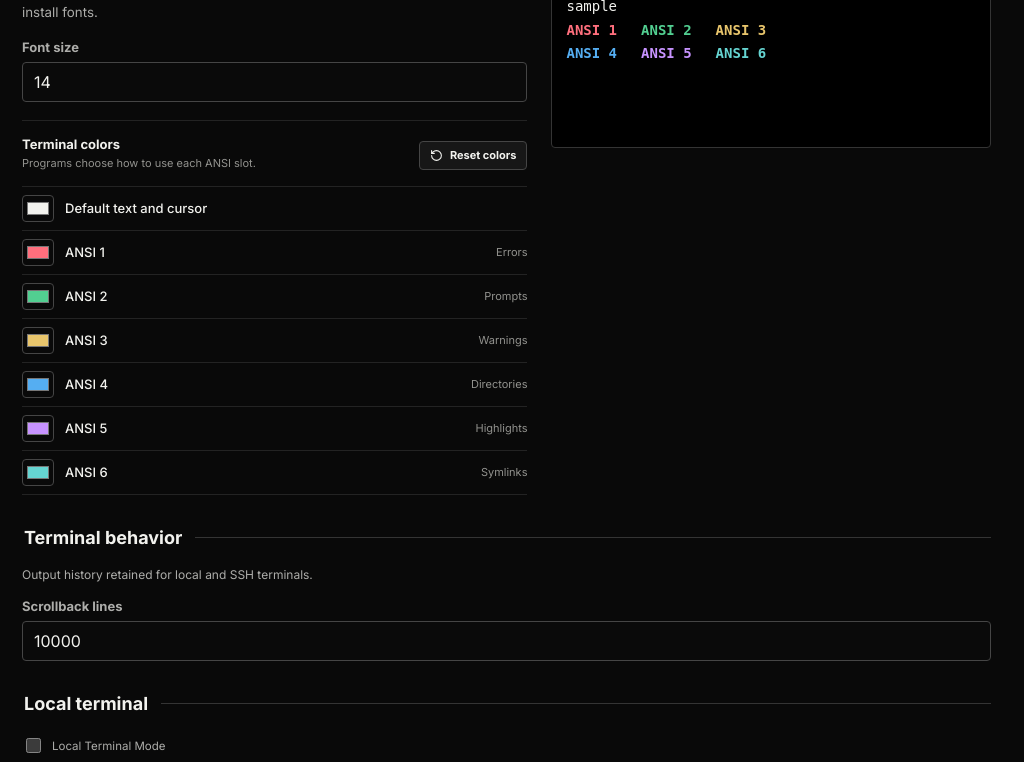
Settings actions › restores the palette after a picked color is committed
The width and height of the screenshot is (1024, 762).
(page scrolled)
Type "#111111" into the colour field labelled "ANSI 4". click: (38, 384)
box: [22,371,54,398]
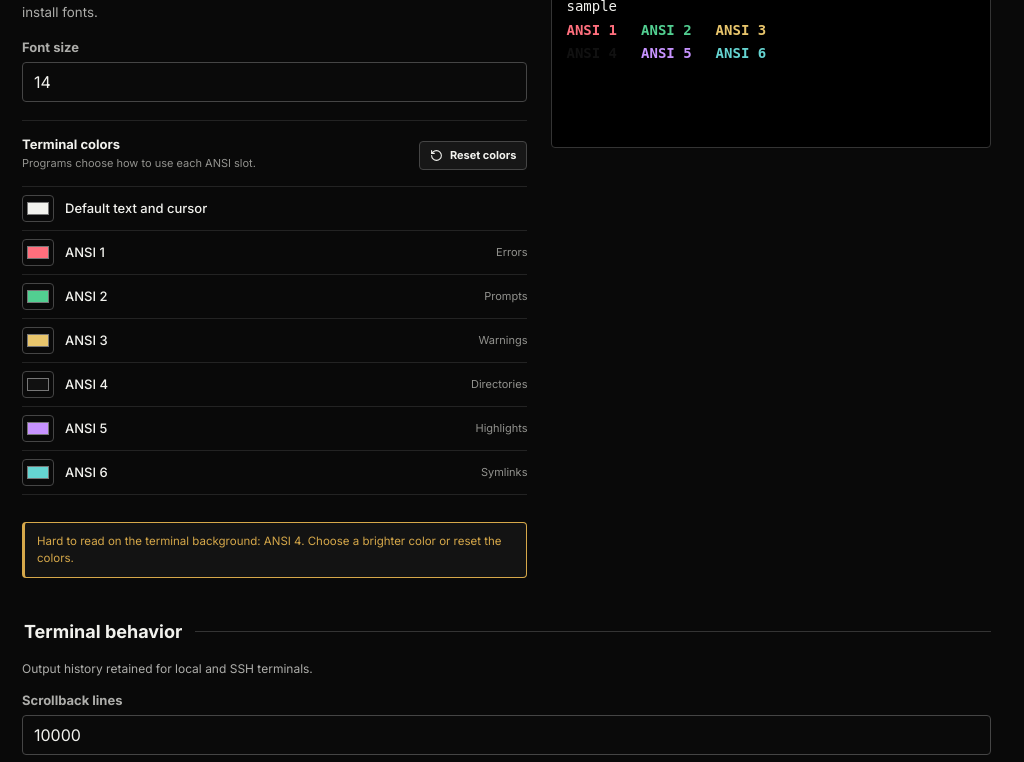
Click the button "Reset colors". click: (473, 156)
box: [419,141,528,170]
(page scrolled)
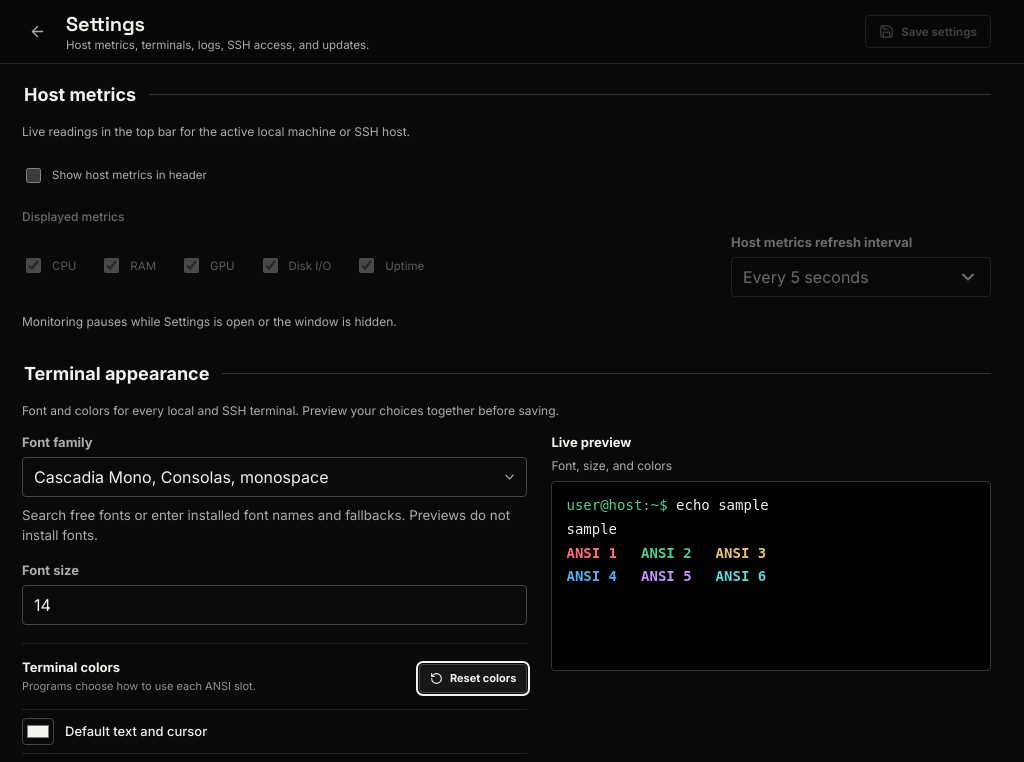
Expected: the button "Save settings" is disabled, [865,15,991,48]
